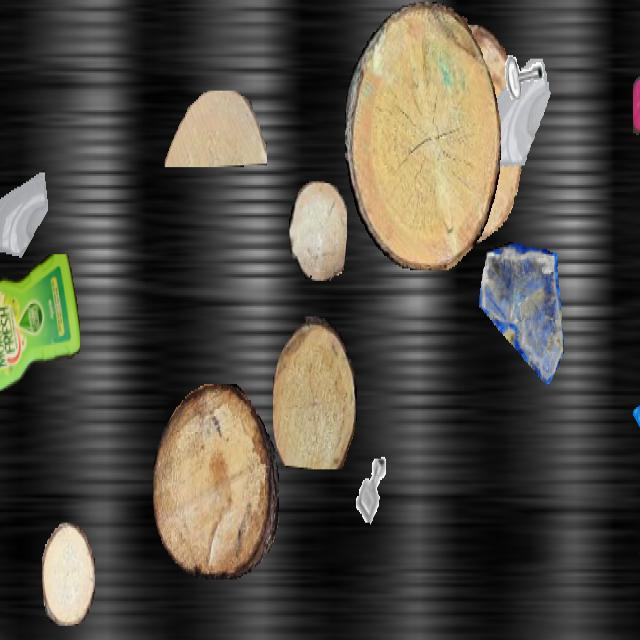glass: (479, 242, 563, 391), (479, 58, 555, 194), (0, 171, 50, 281), (632, 357, 640, 464), (639, 528, 640, 638)
metal: (494, 2, 548, 98), (346, 444, 398, 537)
plastic: (0, 255, 80, 390), (633, 32, 640, 224)
wood: (345, 2, 501, 268), (405, 25, 523, 245), (153, 384, 279, 580), (273, 316, 357, 469), (164, 91, 266, 165), (289, 181, 347, 281), (42, 522, 94, 626)
